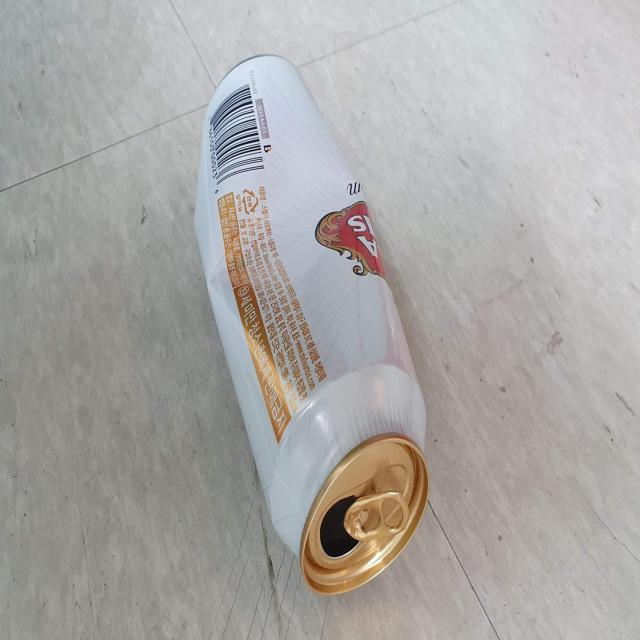can: (195, 55, 429, 594)
